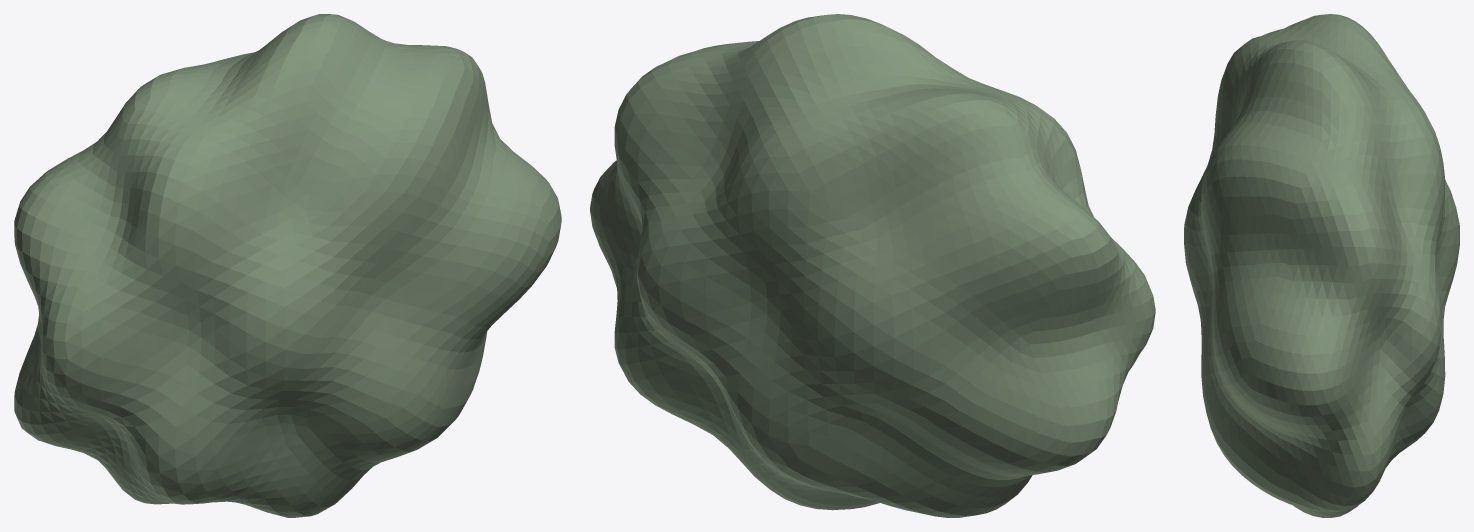
File: Bana_Floating_Island.glb
The picture shows the model from 3 angles, left to right: view 1: azimuth 30°, elevation 25°; view 2: azimuth 150°, elevation 25°; view 3: azimuth 270°, elevation 25°; orthographic projection. The views are drawn at different scales.
Parts seen in each view (by area): view 1: world; view 2: world; view 3: world.
Boxes of the visible parts, left/top/right/bottom form: world: left=14, top=14, right=561, bottom=517; world: left=590, top=14, right=1155, bottom=517; world: left=1184, top=14, right=1459, bottom=517.
Bounding box in the file's own units: 7.38 × 6.44 × 3.49.
